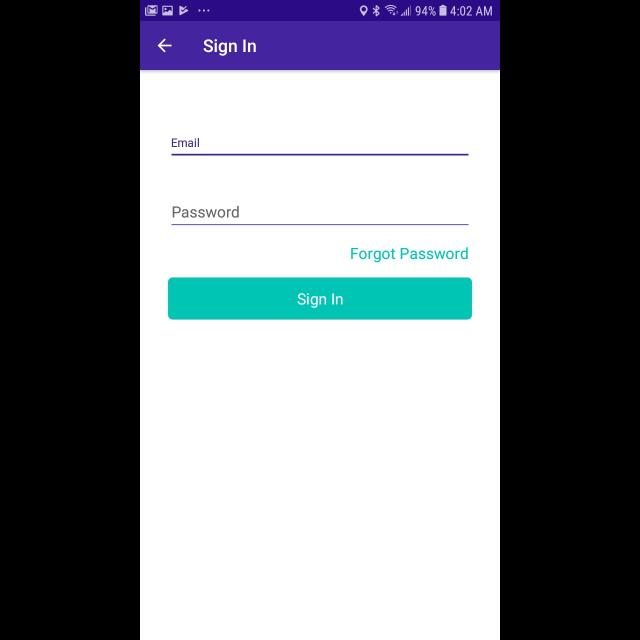icon: (158, 38, 172, 54)
input: (172, 206, 468, 226), (172, 138, 468, 156)
text: (352, 247, 468, 263), (204, 39, 256, 57), (172, 206, 240, 218), (172, 138, 200, 148)
textbutton: (168, 278, 472, 320)
uppertaskbar: (140, 1, 500, 22)
